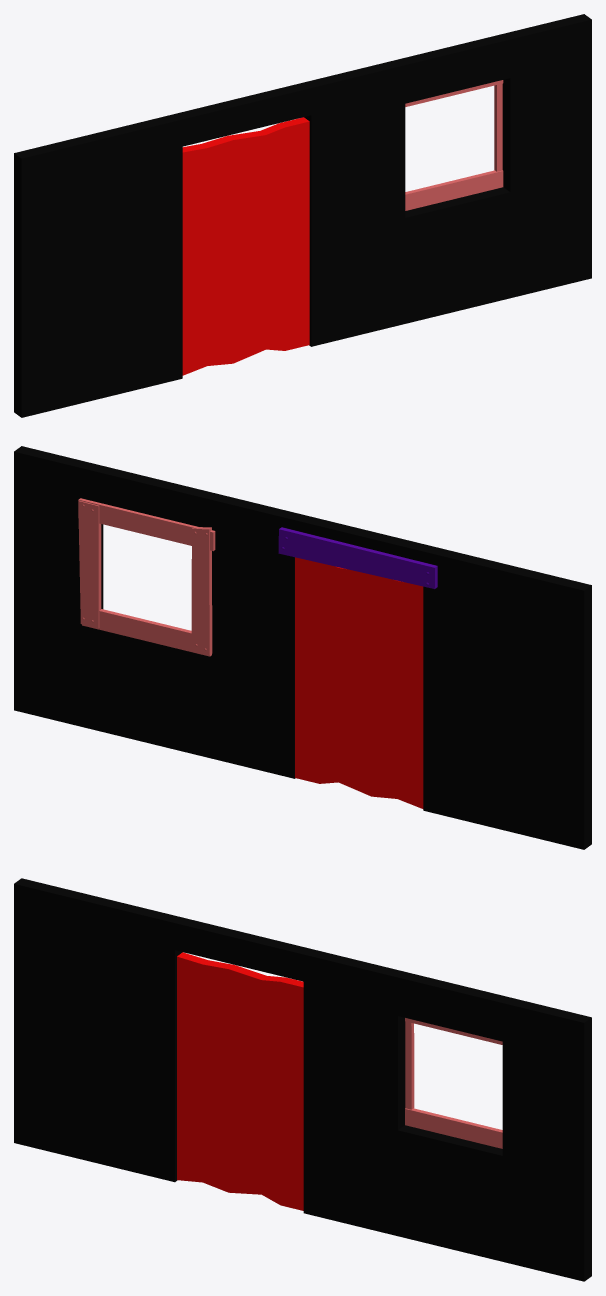
Rendered from 3D_BUILD_DOORWALL.FBX.
3 renders of one model, top to bottom at view 1: azimuth 30°, elevation 25°; view 2: azimuth 150°, elevation 25°; view 3: azimuth 330°, elevation 25°, orthographic.
Visible parts, largest first — view 1: WallDoor, Door, Window; view 2: WallDoor, Door, Window, Wood; view 3: WallDoor, Door, Window.
Boxes of the visible parts, bbox=[...] form: WallDoor: bbox=[14, 14, 591, 417]; Door: bbox=[182, 117, 309, 375]; Window: bbox=[405, 80, 503, 210]; WallDoor: bbox=[14, 446, 591, 849]; Door: bbox=[295, 557, 423, 808]; Window: bbox=[78, 498, 215, 656]; Wood: bbox=[278, 527, 437, 588]; WallDoor: bbox=[14, 878, 591, 1281]; Door: bbox=[177, 952, 303, 1210]; Window: bbox=[405, 1018, 502, 1148].
Size of the model in its own units: 461 by 200 by 15.3.
